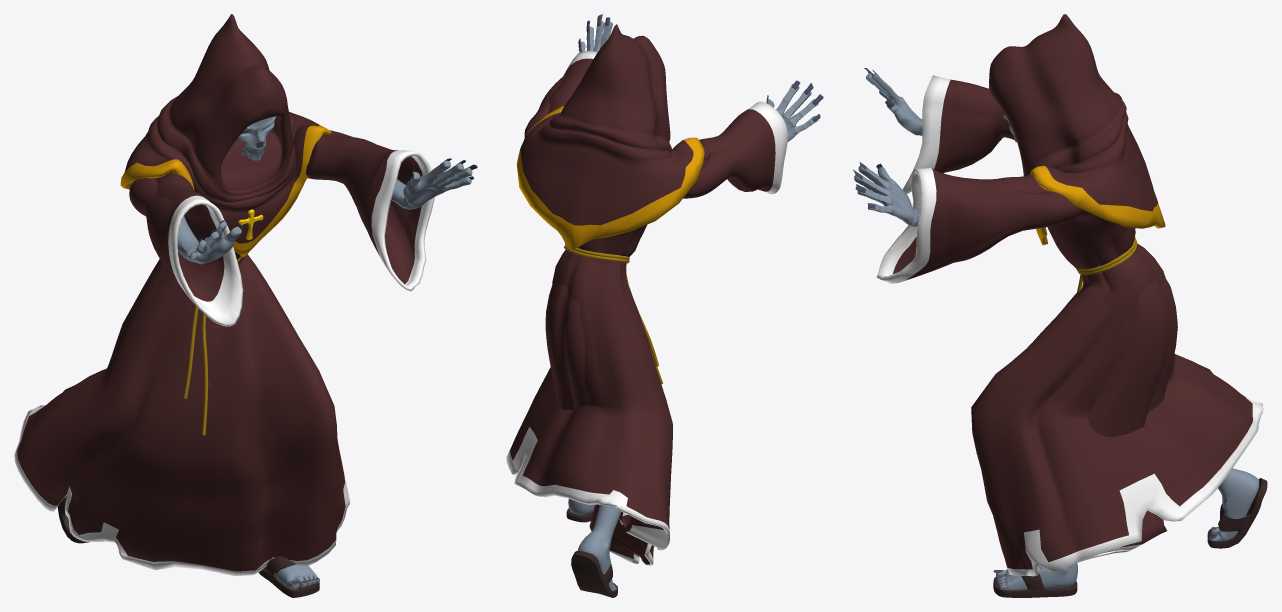
Rendered from per_espanto.glb.
3 views of the same model, side by side, from view 1: azimuth 30°, elevation 25°; view 2: azimuth 150°, elevation 25°; view 3: azimuth 270°, elevation 25° (orthographic). The views are drawn at different scales.
Parts seen in each view (by area): view 1: Traje_Completo.001, CapaSup2.001, ManoIzquierda.001, ManoDerecha.001, Zapatos.001, Cordon.001, Craneo.001, Pie.001; view 2: Traje_Completo.001, CapaSup2.001, Pie.001, Zapatos.001, ManoDerecha.001, ManoIzquierda.001, Cordon.001; view 3: Traje_Completo.001, CapaSup2.001, Pie.001, Zapatos.001, ManoIzquierda.001, ManoDerecha.001, Cordon.001.
Boxes of the visible parts, left/top/right/bottom form: Traje_Completo.001: left=14, top=130, right=434, bottom=576; CapaSup2.001: left=120, top=14, right=331, bottom=256; ManoIzquierda.001: left=391, top=158, right=477, bottom=209; ManoDerecha.001: left=177, top=216, right=243, bottom=264; Zapatos.001: left=57, top=498, right=319, bottom=597; Cordon.001: left=183, top=256, right=242, bottom=435; Craneo.001: left=236, top=116, right=276, bottom=154; Pie.001: left=64, top=495, right=319, bottom=590; Traje_Completo.001: left=506, top=51, right=787, bottom=565; CapaSup2.001: left=516, top=24, right=704, bottom=248; Pie.001: left=568, top=498, right=621, bottom=590; Zapatos.001: left=566, top=508, right=617, bottom=597; ManoDerecha.001: left=766, top=80, right=823, bottom=141; ManoIzquierda.001: left=578, top=14, right=612, bottom=52; Cordon.001: left=564, top=243, right=663, bottom=384; Traje_Completo.001: left=876, top=75, right=1263, bottom=576; CapaSup2.001: left=989, top=14, right=1165, bottom=245; Pie.001: left=993, top=468, right=1259, bottom=590; Zapatos.001: left=993, top=478, right=1267, bottom=597; ManoIzquierda.001: left=853, top=162, right=920, bottom=226; ManoDerecha.001: left=864, top=68, right=922, bottom=135; Cordon.001: left=1076, top=237, right=1137, bottom=292.
Bounding box in the file's own units: 0.854 × 1.67 × 1.12.
